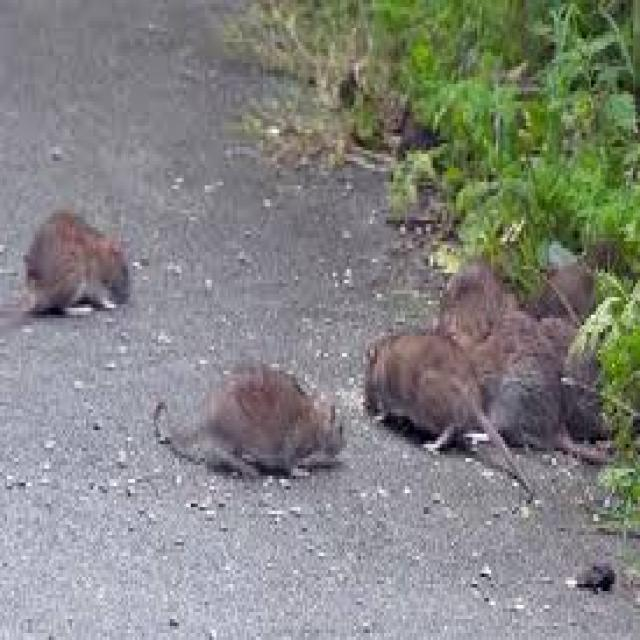Rat: (23, 171, 638, 499), (366, 231, 616, 458), (148, 348, 346, 492), (13, 184, 138, 337)
